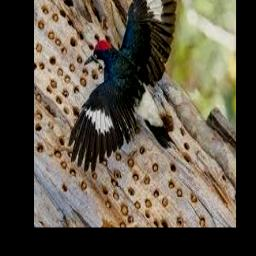Woodpecker: (68, 0, 179, 172)
